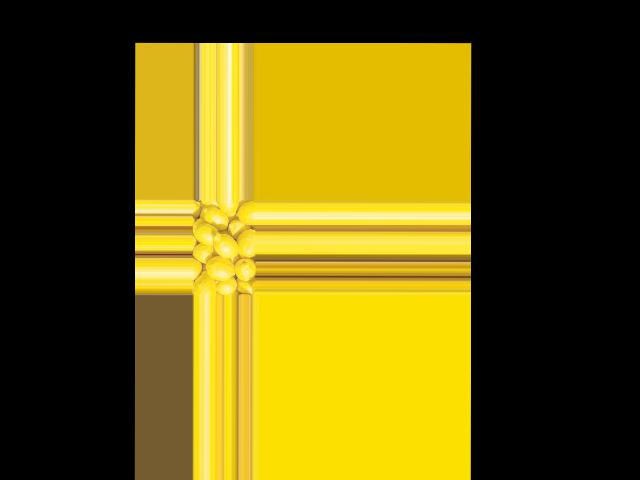lemon: (193, 220, 217, 243)
